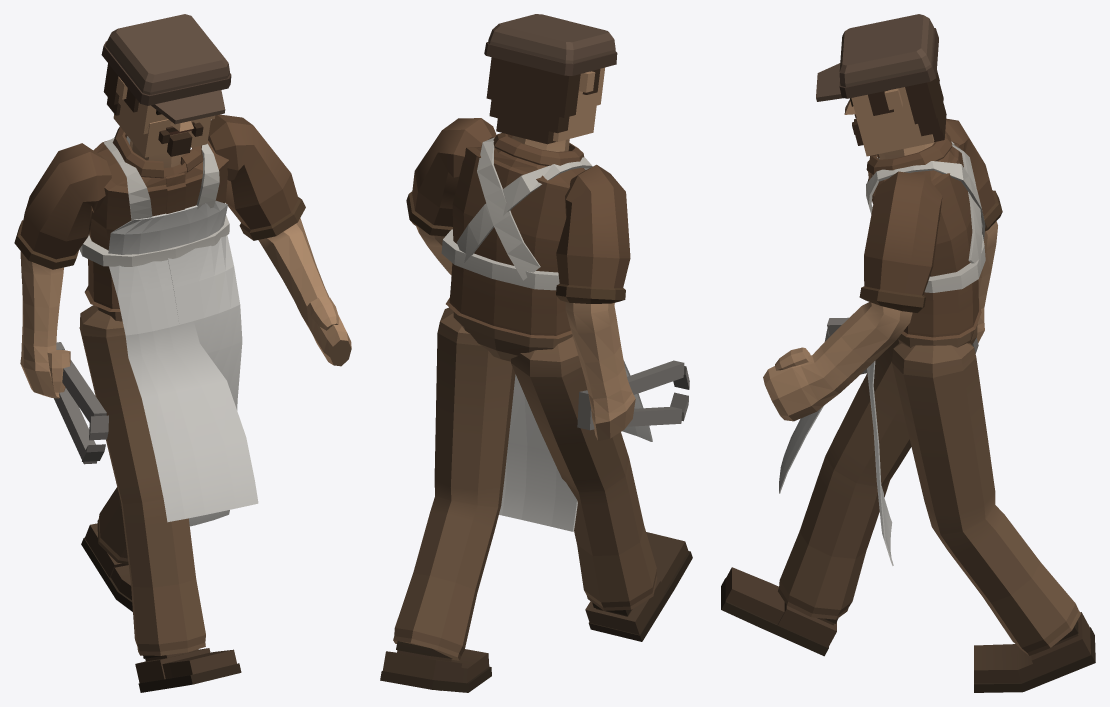
The model's file is street-vendor-139de3__walk4.glb.
3 renders of one model, left to right at view 1: azimuth 30°, elevation 25°; view 2: azimuth 150°, elevation 25°; view 3: azimuth 270°, elevation 25°, orthographic.
Parts seen in each view (by area): view 1: street-vendor-139de3__walk4; view 2: street-vendor-139de3__walk4; view 3: street-vendor-139de3__walk4.
Part boxes in pixels (left/top/right/bottom): street-vendor-139de3__walk4: left=14, top=14, right=351, bottom=692; street-vendor-139de3__walk4: left=380, top=14, right=692, bottom=692; street-vendor-139de3__walk4: left=721, top=14, right=1095, bottom=692.
Bounding box in the file's own units: 0.6968 × 1.69 × 0.9128.
